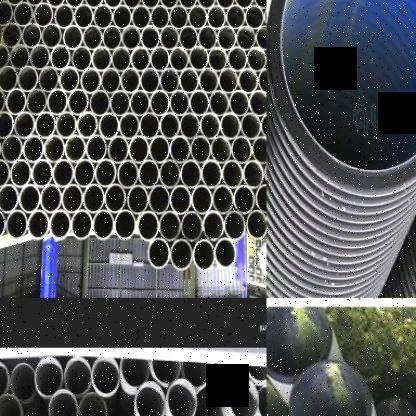pipe: (266, 0, 416, 191), (266, 307, 332, 378), (289, 361, 370, 416), (365, 393, 416, 416), (230, 377, 259, 416), (34, 356, 62, 396), (168, 378, 197, 416), (134, 381, 165, 416), (64, 356, 91, 396), (10, 362, 36, 402), (92, 358, 119, 394), (267, 377, 288, 416), (121, 359, 150, 387), (48, 389, 77, 416), (192, 238, 215, 272), (158, 211, 182, 243), (136, 211, 160, 242), (170, 239, 193, 271), (147, 238, 170, 270), (182, 362, 210, 388), (126, 185, 150, 215), (6, 210, 29, 241), (114, 210, 137, 241), (181, 211, 203, 243), (152, 360, 181, 384), (104, 184, 127, 214), (49, 210, 71, 241), (71, 210, 93, 241), (191, 185, 213, 216), (148, 185, 170, 216), (19, 184, 41, 215), (40, 184, 62, 215), (201, 159, 223, 190), (159, 159, 181, 190), (138, 159, 160, 190), (224, 210, 245, 242), (78, 392, 106, 416), (28, 210, 50, 240), (31, 159, 53, 189), (43, 134, 65, 164), (215, 238, 236, 269), (203, 211, 224, 242), (245, 210, 266, 241), (93, 210, 114, 241), (170, 185, 191, 216), (212, 185, 233, 216), (62, 184, 83, 215), (180, 159, 201, 190), (222, 159, 243, 190), (74, 158, 95, 189), (117, 160, 139, 189), (107, 135, 129, 164), (148, 135, 170, 164), (1, 135, 23, 164), (234, 185, 255, 215), (83, 184, 104, 214), (243, 160, 264, 190), (10, 160, 32, 188), (190, 136, 212, 164), (128, 136, 150, 164), (86, 135, 108, 163), (240, 112, 262, 140), (98, 112, 120, 140), (55, 111, 77, 139), (5, 88, 27, 116), (26, 88, 48, 116), (209, 364, 243, 382), (23, 135, 44, 164), (38, 66, 60, 93), (53, 160, 74, 188), (95, 160, 116, 188), (231, 136, 252, 164), (170, 136, 191, 164), (65, 135, 86, 163), (119, 112, 140, 140), (139, 112, 160, 140), (14, 111, 35, 139), (35, 111, 56, 139), (47, 88, 68, 116), (59, 66, 80, 94), (76, 112, 98, 138), (17, 66, 39, 92), (71, 46, 93, 72), (189, 90, 210, 117), (229, 90, 250, 117), (89, 90, 110, 117), (68, 89, 89, 116), (179, 67, 200, 94), (120, 67, 141, 94), (33, 2, 54, 29), (211, 136, 231, 164), (200, 112, 220, 140), (180, 112, 200, 140), (220, 112, 240, 140), (160, 112, 180, 140), (41, 24, 63, 49), (159, 68, 180, 94), (100, 68, 121, 94), (169, 46, 190, 72), (111, 46, 132, 72), (50, 45, 71, 71), (82, 25, 103, 51), (62, 24, 83, 50), (54, 4, 75, 30), (0, 184, 18, 214), (110, 90, 130, 117), (170, 90, 190, 117), (130, 90, 150, 117), (199, 67, 219, 94), (81, 67, 101, 94), (140, 67, 160, 94), (13, 2, 34, 27), (150, 90, 170, 116), (238, 68, 258, 94), (227, 46, 247, 72), (246, 46, 266, 72), (131, 46, 151, 72), (92, 46, 112, 72), (150, 46, 170, 72), (189, 46, 209, 72), (30, 44, 50, 70), (10, 44, 30, 70), (102, 25, 122, 51), (121, 25, 141, 51), (2, 23, 22, 49), (22, 23, 42, 49), (210, 90, 229, 117), (219, 67, 238, 94), (217, 26, 237, 51), (236, 26, 256, 51), (169, 5, 189, 30), (150, 5, 170, 30), (93, 5, 113, 30), (74, 5, 94, 30), (208, 46, 227, 72), (188, 5, 207, 31), (245, 5, 264, 31), (249, 90, 267, 117), (0, 394, 22, 416), (0, 65, 17, 93), (179, 26, 198, 51), (198, 26, 217, 51), (160, 26, 179, 51), (141, 26, 160, 51), (207, 5, 226, 30), (132, 5, 151, 30), (226, 5, 245, 30), (113, 5, 132, 30), (244, 364, 266, 384), (252, 136, 266, 164), (0, 112, 14, 138), (0, 1, 14, 27), (255, 184, 266, 214), (0, 158, 10, 189), (0, 361, 8, 398), (255, 25, 266, 51), (258, 381, 266, 416), (0, 44, 10, 70), (258, 67, 266, 94), (159, 0, 179, 10), (122, 0, 142, 10), (178, 0, 197, 10), (197, 0, 216, 10), (234, 0, 253, 10), (141, 0, 159, 10), (216, 0, 234, 10), (65, 0, 85, 9), (0, 210, 6, 239), (103, 0, 122, 9), (84, 0, 103, 9), (260, 112, 266, 140), (45, 0, 65, 8), (0, 88, 5, 116), (24, 0, 45, 6), (254, 0, 266, 10), (4, 0, 24, 5)
